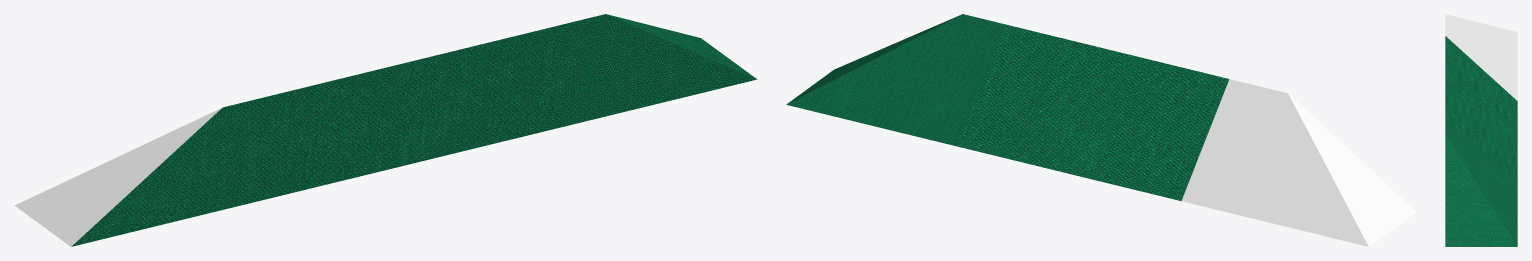
Rendered from cushion.obj.
3 views of the same model, side by side, from view 1: azimuth 30°, elevation 25°; view 2: azimuth 150°, elevation 25°; view 3: azimuth 270°, elevation 25° (orthographic). The views are drawn at different scales.
Parts seen in each view (by area): view 1: Object.1, Object.2; view 2: Object.1, Object.2; view 3: Object.1, Object.2.
Part boxes in pixels (box(x1,y1,x2,y2)): Object.1: box(14, 26, 555, 246); Object.2: box(555, 14, 757, 128); Object.1: box(957, 24, 1416, 246); Object.2: box(786, 14, 1005, 146); Object.1: box(1445, 14, 1517, 183); Object.2: box(1445, 118, 1517, 246).
Size of the model in its own units: 152 by 21.65 by 21.65.
